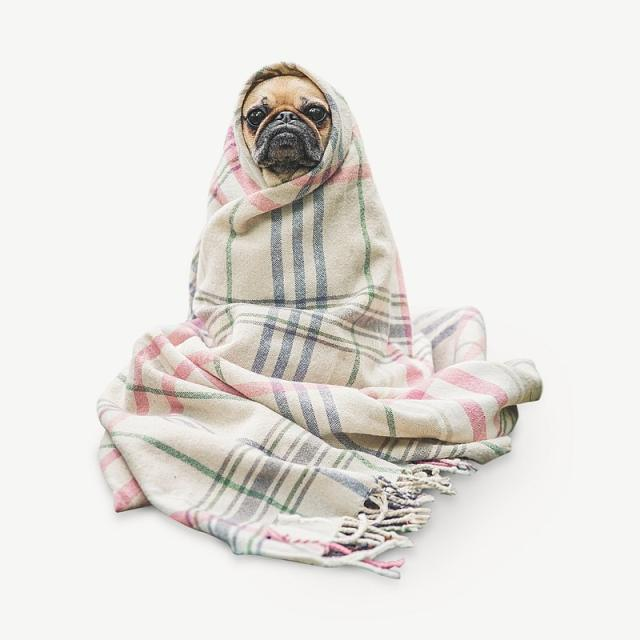blanket: (100, 77, 542, 575)
